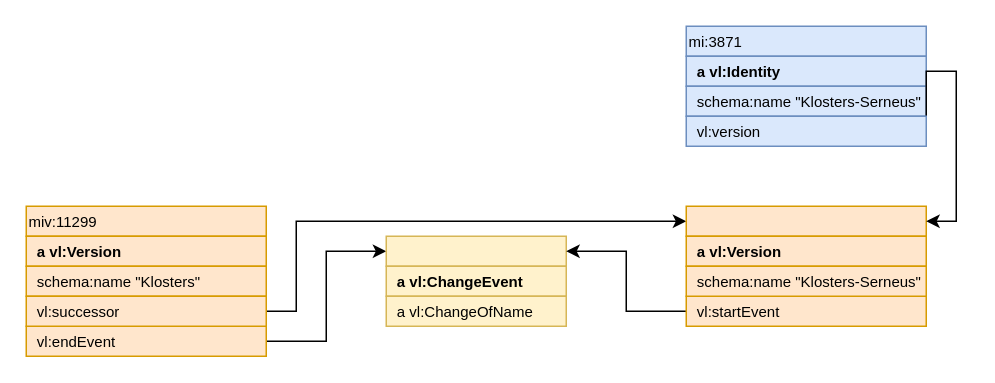
Some shapes in this 995 by 383 pixel diagram are drawn without their labels. The shapes that lost their labels are listed below. From the top down, each one's centre as x and y in pixels, then its label:
the point at 805,220: miv:13233
the point at 475,250: mce:1048
